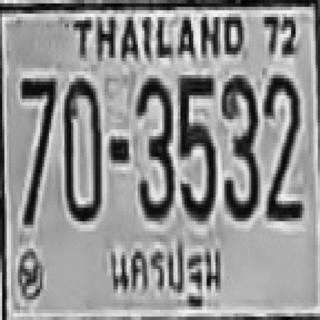N00: (62, 75, 100, 218)
N02: (263, 72, 299, 218)
N03: (220, 75, 258, 218), (136, 75, 173, 218)
N05: (177, 75, 214, 218)
N07: (20, 76, 56, 223), (20, 75, 56, 177)
P28: (104, 233, 226, 311)
